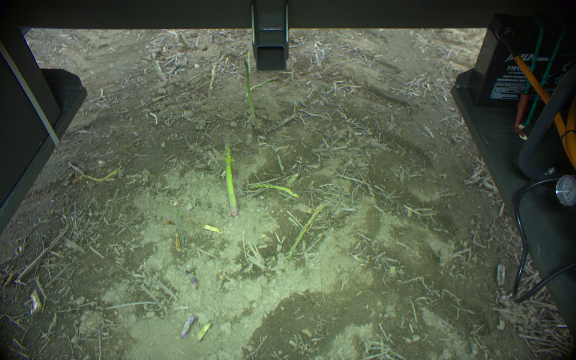aspa: (286, 201, 327, 260), (247, 180, 303, 202), (241, 57, 257, 129), (224, 137, 238, 219), (245, 75, 280, 96), (194, 321, 213, 342), (181, 315, 193, 338)
